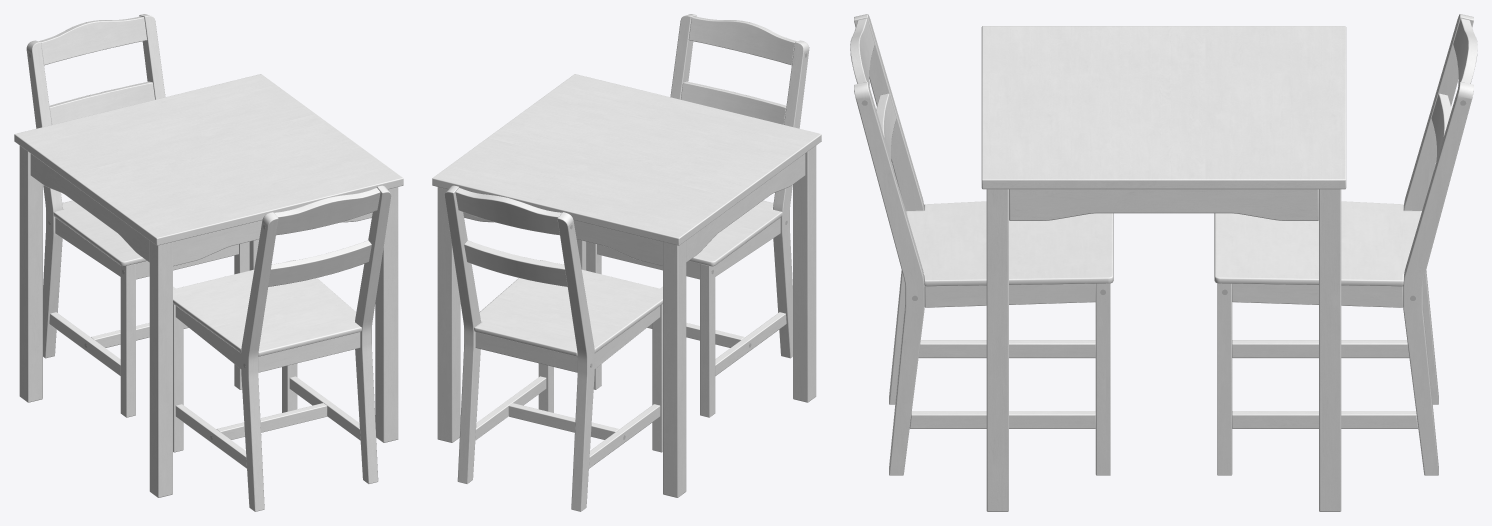
The model's file is hauga_hauga_sto_i_2_krzesa_99574853.glb.
The picture shows the model from 3 angles, left to right: view 1: azimuth 30°, elevation 25°; view 2: azimuth 150°, elevation 25°; view 3: azimuth 270°, elevation 25°; orthographic projection. The views are drawn at different scales.
Parts seen in each view (by area): view 1: hauga_hauga_sto_i_2_krzesa_99574853; view 2: hauga_hauga_sto_i_2_krzesa_99574853; view 3: hauga_hauga_sto_i_2_krzesa_99574853.
Part boxes in pixels (x1=…): hauga_hauga_sto_i_2_krzesa_99574853: x1=14, y1=14, x2=403, y2=511; hauga_hauga_sto_i_2_krzesa_99574853: x1=432, y1=14, x2=821, y2=511; hauga_hauga_sto_i_2_krzesa_99574853: x1=850, y1=14, x2=1477, y2=511.
Bounding box in the file's own units: 0.7401 × 0.8804 × 1.27.
3 materials, 2 textured.
